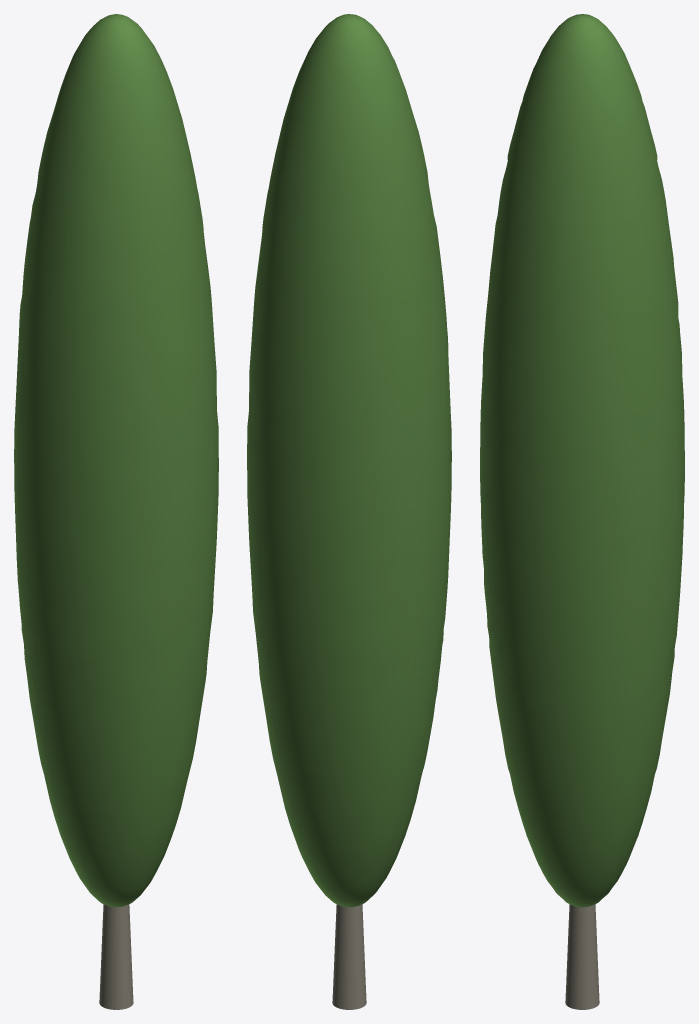
File: e03-lombardy-poplar.glb
3 views of the same model, side by side, from view 1: azimuth 30°, elevation 25°; view 2: azimuth 150°, elevation 25°; view 3: azimuth 270°, elevation 25° (orthographic).
Parts seen in each view (by area): view 1: part1, part0; view 2: part1, part0; view 3: part1, part0.
Part boxes in pixels (box(x1,y1,x2,y2)): part1: box(14, 14, 218, 907); part0: box(99, 904, 133, 1009); part1: box(247, 14, 451, 907); part0: box(332, 904, 366, 1009); part1: box(480, 14, 684, 907); part0: box(565, 904, 599, 1009).
Size of the model in its own units: 4778 by 25499 by 4798.
